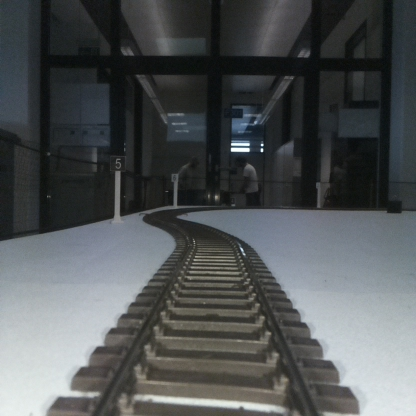black-info-5: (110, 155, 126, 222)
